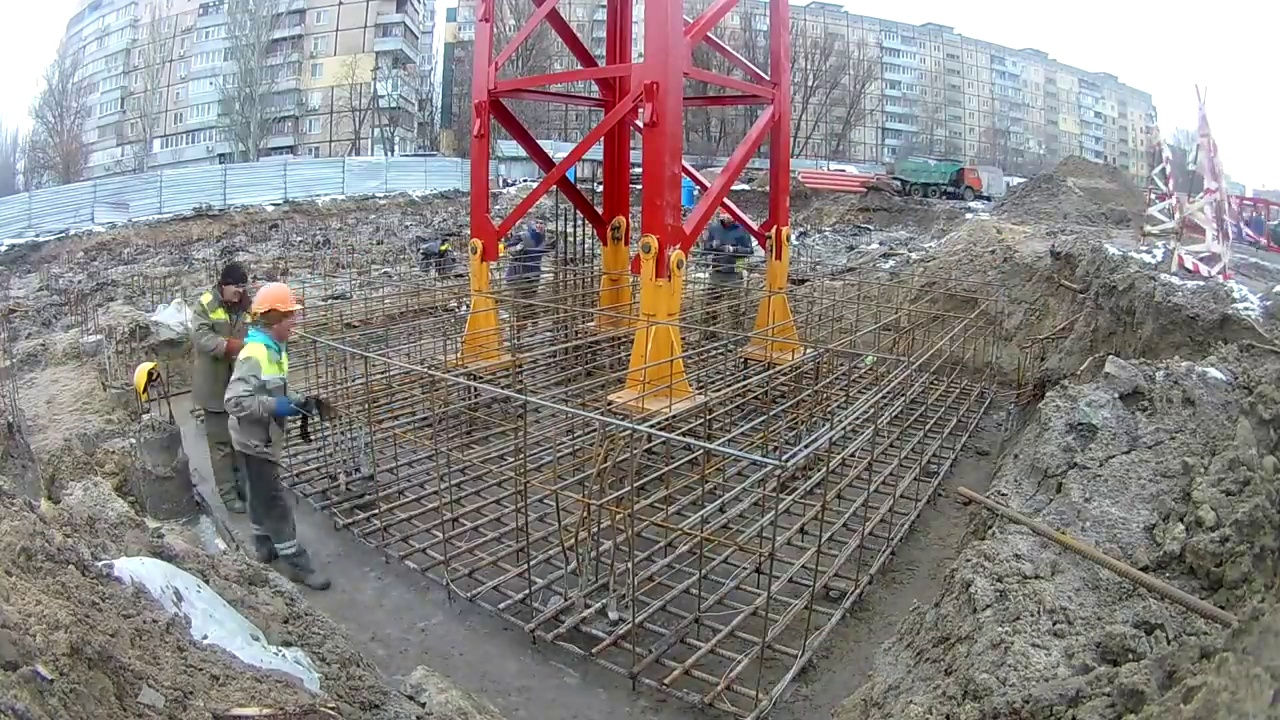helmet: (248, 280, 303, 315), (133, 361, 161, 403)
helmet-off: (215, 265, 249, 303), (530, 213, 552, 239)
helmet-on: (248, 280, 304, 344)
person: (215, 280, 338, 592), (189, 263, 254, 519), (704, 205, 751, 346), (508, 214, 552, 302)
